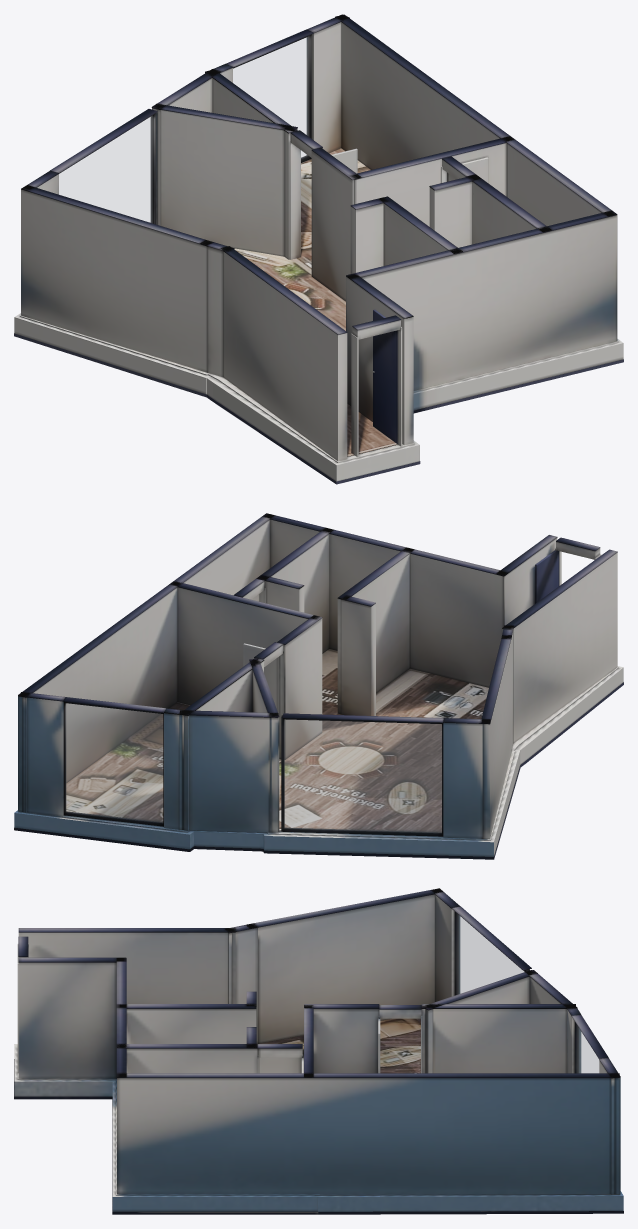
The picture shows the model from 3 angles, top to bottom: view 1: azimuth 30°, elevation 25°; view 2: azimuth 150°, elevation 25°; view 3: azimuth 270°, elevation 25°; orthographic projection. The views are drawn at different scales.
Parts seen in each view (by area): view 1: plan, glass0_m, glass1_m; view 2: plan, glass0_m, glass1_m; view 3: plan, glass0_m, glass1_m.
Boxes of the visible parts, x1,y1,x2,y2 form: plan: [14, 14, 623, 484]; glass0_m: [59, 116, 152, 222]; glass1_m: [233, 37, 308, 158]; plan: [14, 513, 623, 859]; glass0_m: [284, 719, 441, 832]; glass1_m: [66, 703, 162, 822]; plan: [14, 888, 623, 1214]; glass0_m: [457, 914, 523, 994]; glass1_m: [577, 1026, 598, 1072].
Bounding box in the file's own units: 8.04 × 2.62 × 10.7.
2 materials, 1 textured.
